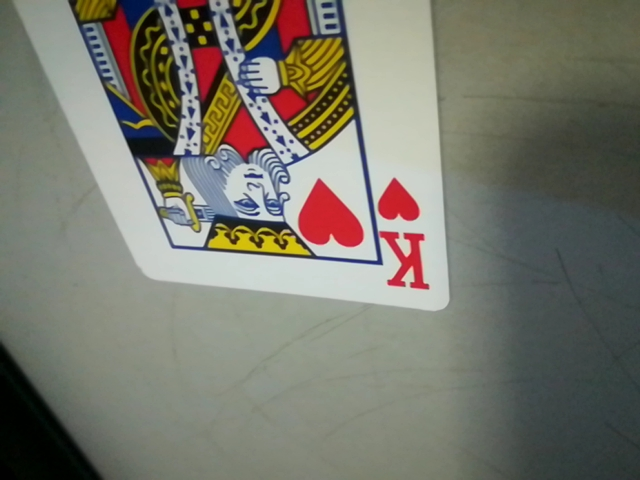hx k: (368, 168, 444, 300)
